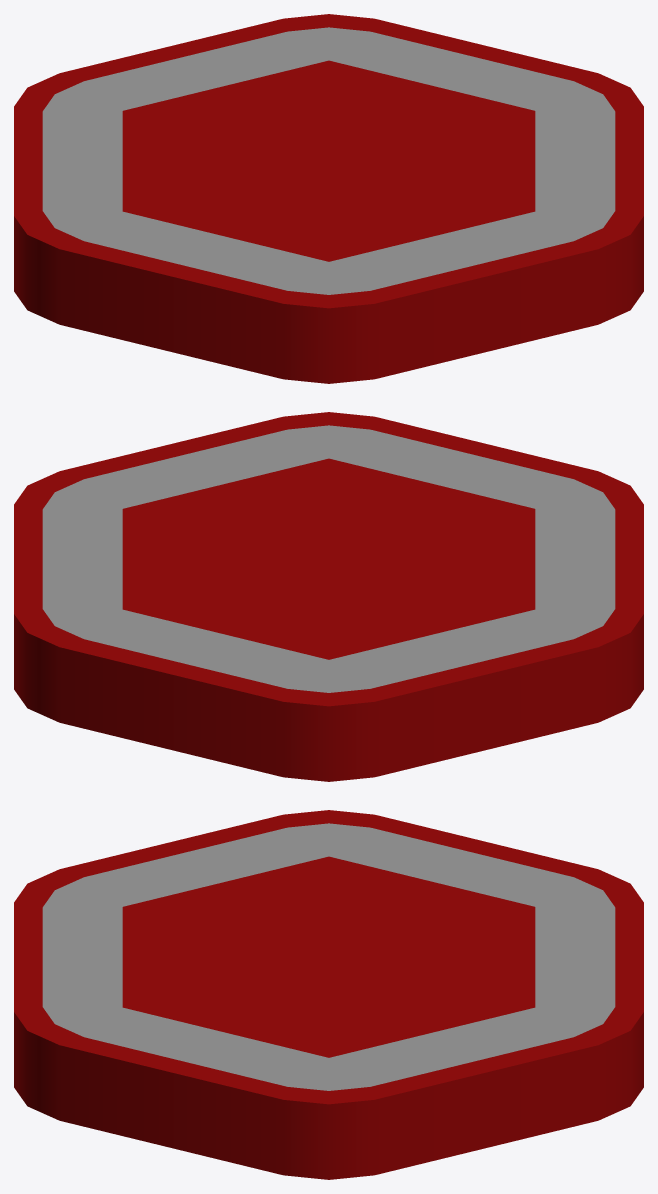
The model's file is HXS_FK_1.FBX.
3 renders of one model, top to bottom at view 1: azimuth 30°, elevation 25°; view 2: azimuth 150°, elevation 25°; view 3: azimuth 270°, elevation 25°, orthographic.
Parts seen in each view (by area): view 1: HXS_FK_1; view 2: HXS_FK_1; view 3: HXS_FK_1.
Boxes of the visible parts, <box> form: HXS_FK_1: <box>14,14,643,383</box>; HXS_FK_1: <box>14,412,643,781</box>; HXS_FK_1: <box>14,810,643,1179</box>.
Bounding box in the file's own units: 207 × 187 × 24.79.
